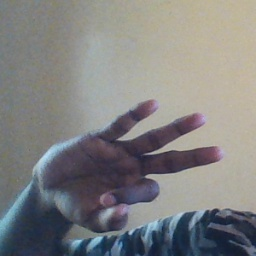K: (31, 96, 224, 229)
